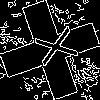X: (25, 25, 79, 72)
